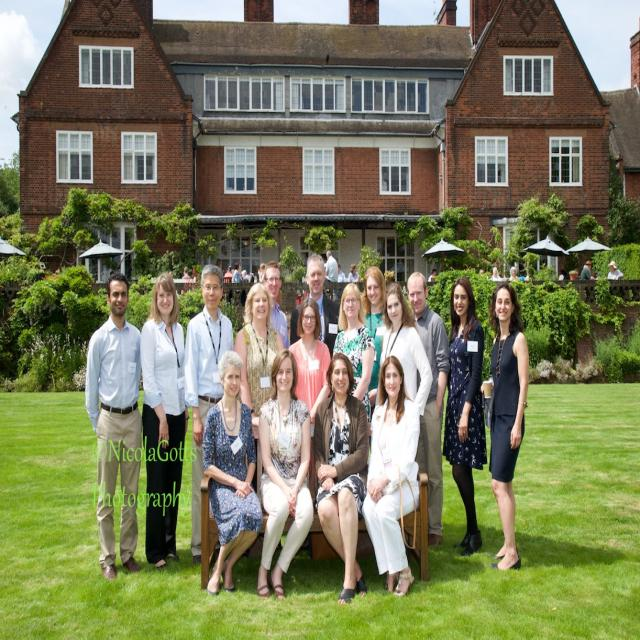body: (82, 269, 144, 584), (183, 264, 237, 570), (252, 348, 314, 603), (312, 353, 374, 606), (202, 349, 262, 600), (138, 270, 187, 572), (360, 354, 420, 598), (480, 280, 527, 575), (440, 276, 488, 559), (406, 271, 450, 545), (233, 283, 286, 493), (287, 295, 333, 507), (379, 283, 433, 417), (331, 283, 377, 424), (290, 252, 341, 360), (360, 265, 388, 450), (261, 259, 292, 351), (223, 261, 268, 283), (322, 249, 338, 298), (377, 165, 391, 195), (579, 260, 598, 282), (606, 259, 623, 280), (554, 262, 566, 289), (348, 264, 360, 286), (180, 264, 197, 279), (488, 266, 502, 281), (337, 263, 346, 283), (509, 265, 519, 280), (428, 268, 438, 282)
